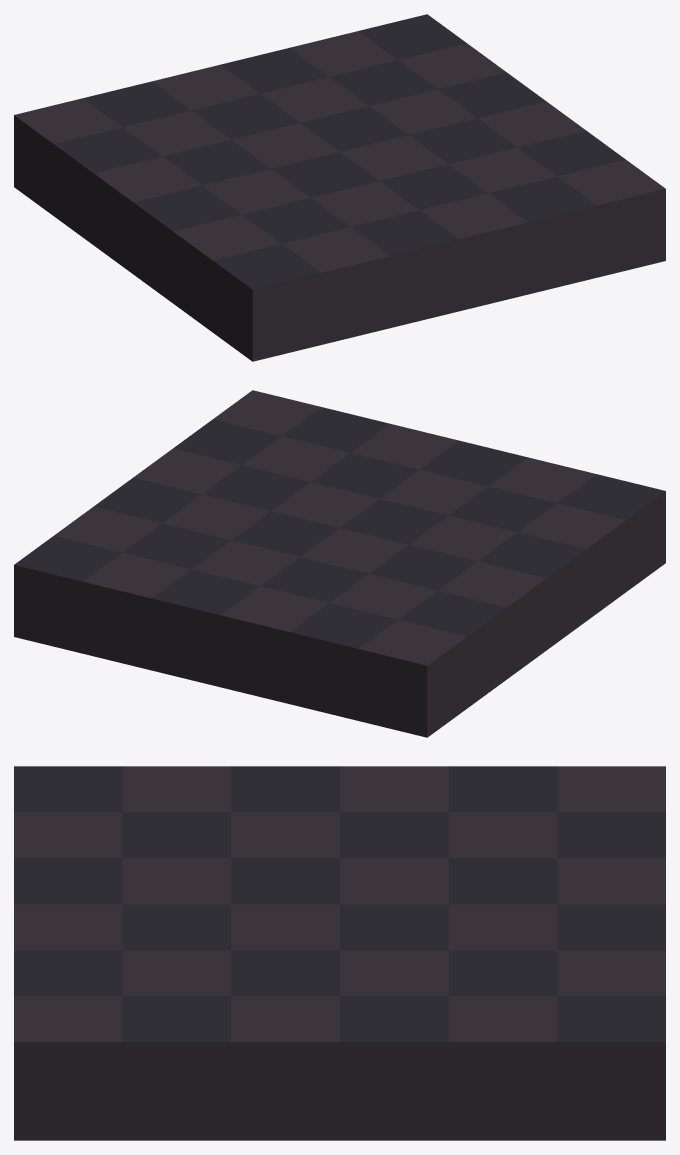
The model's file is platform1.gltf.
3 views of the same model, one above another, from view 1: azimuth 30°, elevation 25°; view 2: azimuth 150°, elevation 25°; view 3: azimuth 270°, elevation 25° (orthographic). The views are drawn at different scales.
Visible parts, largest first — view 1: mesh (×36); view 2: mesh (×36); view 3: mesh (×36).
Part boxes in pixels (bbox=[...]): mesh (×36): bbox=[14, 14, 665, 361]; mesh (×36): bbox=[14, 390, 665, 737]; mesh (×36): bbox=[14, 766, 665, 1140].
Size of the model in its own units: 6 by 1 by 6.
Materials: 1 (1 with a texture image).
